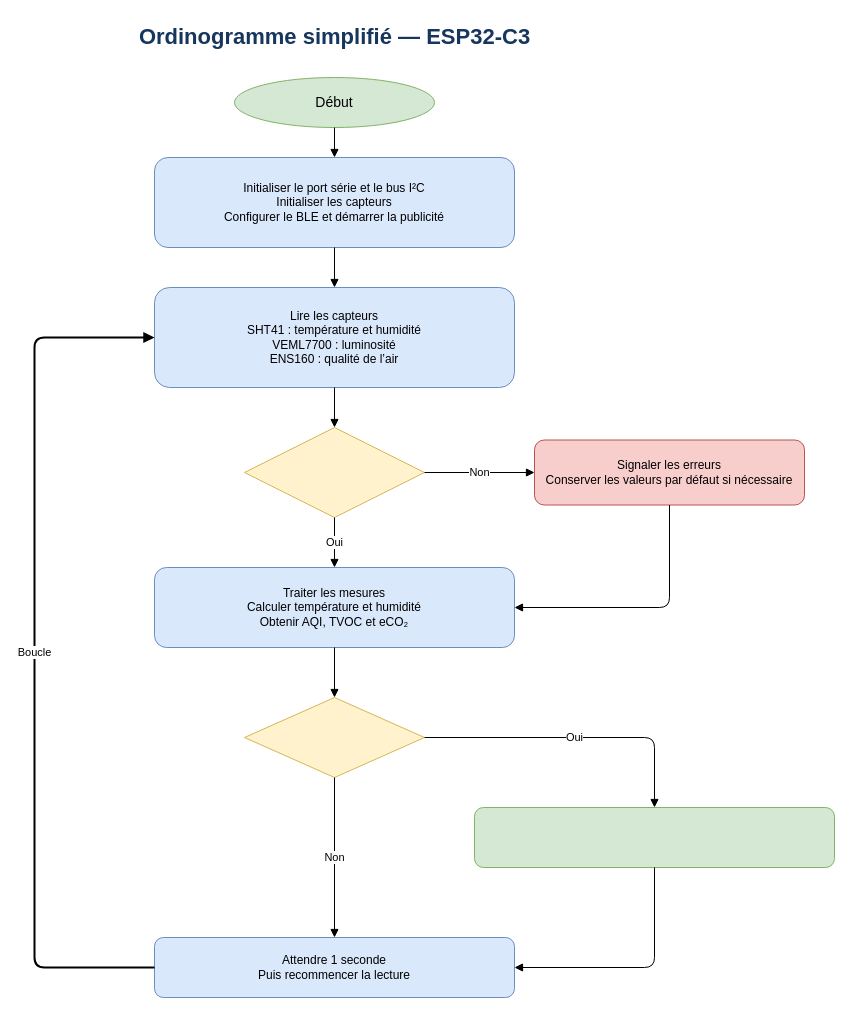
Some shapes in this 852 by 1015 pixel diagram are drawn without their labels. Here are the shapes that lost their labels. From the top down, the centre of each, then its label:
At (x=334, y=472): "Capteurs disponibles et mesures obtenues ?".
At (x=334, y=737): "Téléphone connecté en BLE ?".
At (x=654, y=837): "Envoyer les mesures au téléphone par notification BLE".
